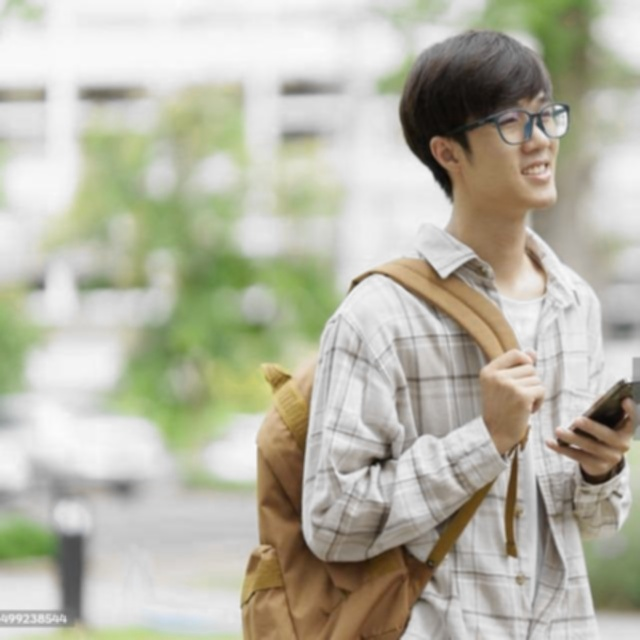Sin_Casco_Mascarrilla: (401, 30, 564, 209)
Sin_Chaleco: (337, 244, 601, 640)
